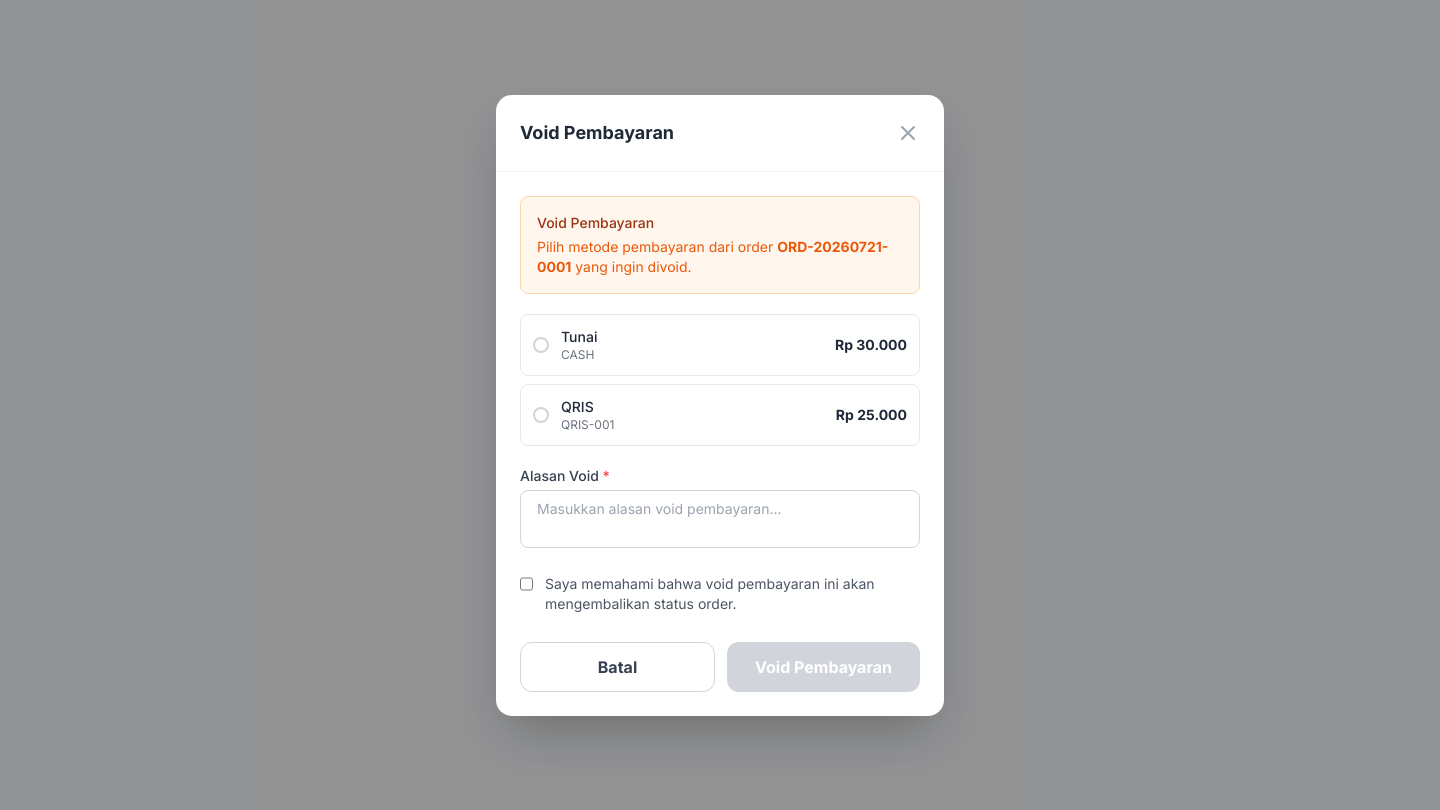
Test: VoidPayment › submit button is disabled until payment selected, reason filled, and confirmed
Expected: the button "Void Pembayaran" is disabled, [727,642,920,692]
// Select a payment
Click the text "Tunai". click: [579, 336]
box: [561,328,597,344]
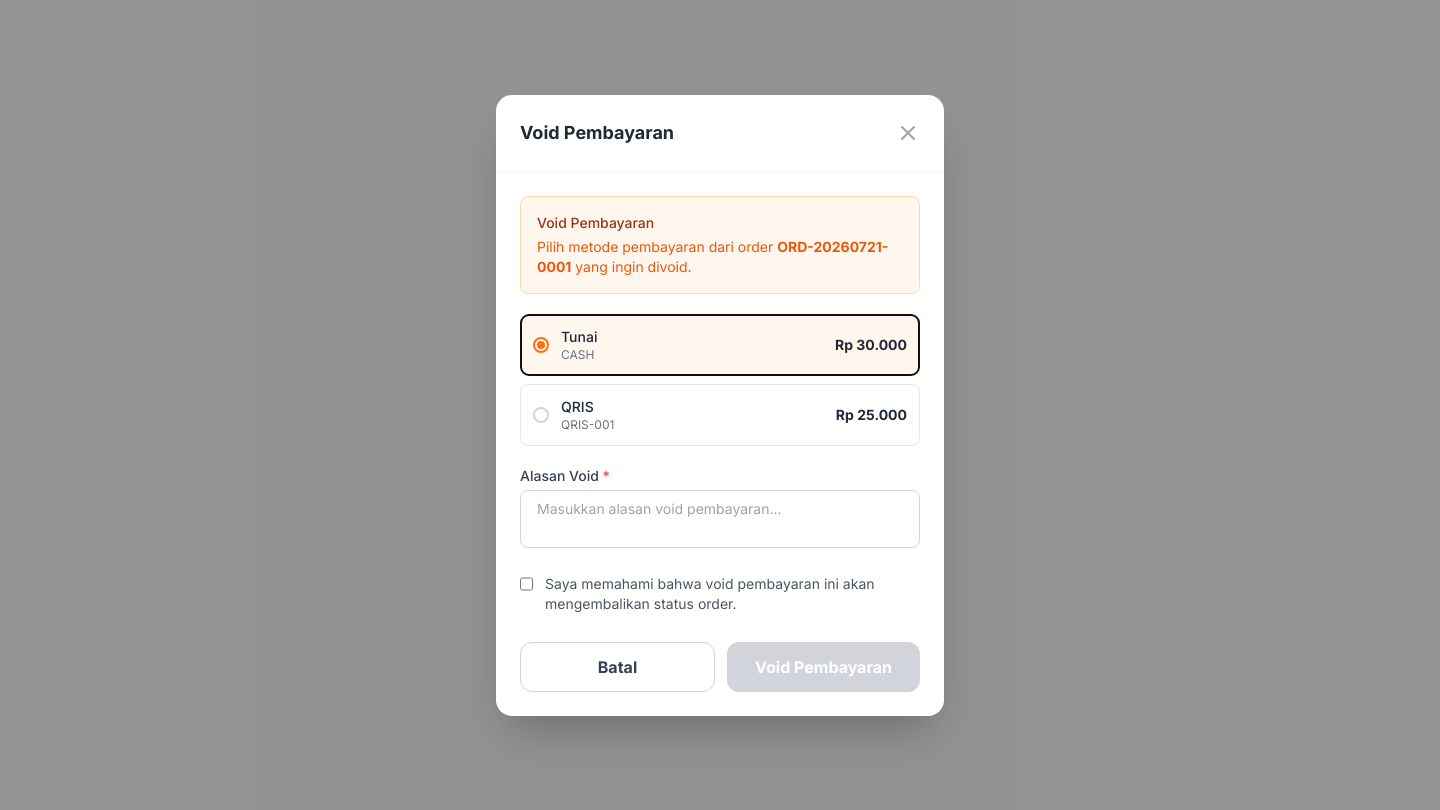
Expected: the button "Void Pembayaran" is disabled, [727,642,920,692]
// Fill reason
Type "Double bayar" into the text box with placeholder "Masukkan alasan void pembayaran...". click: [720, 518]
box: [520,490,920,548]
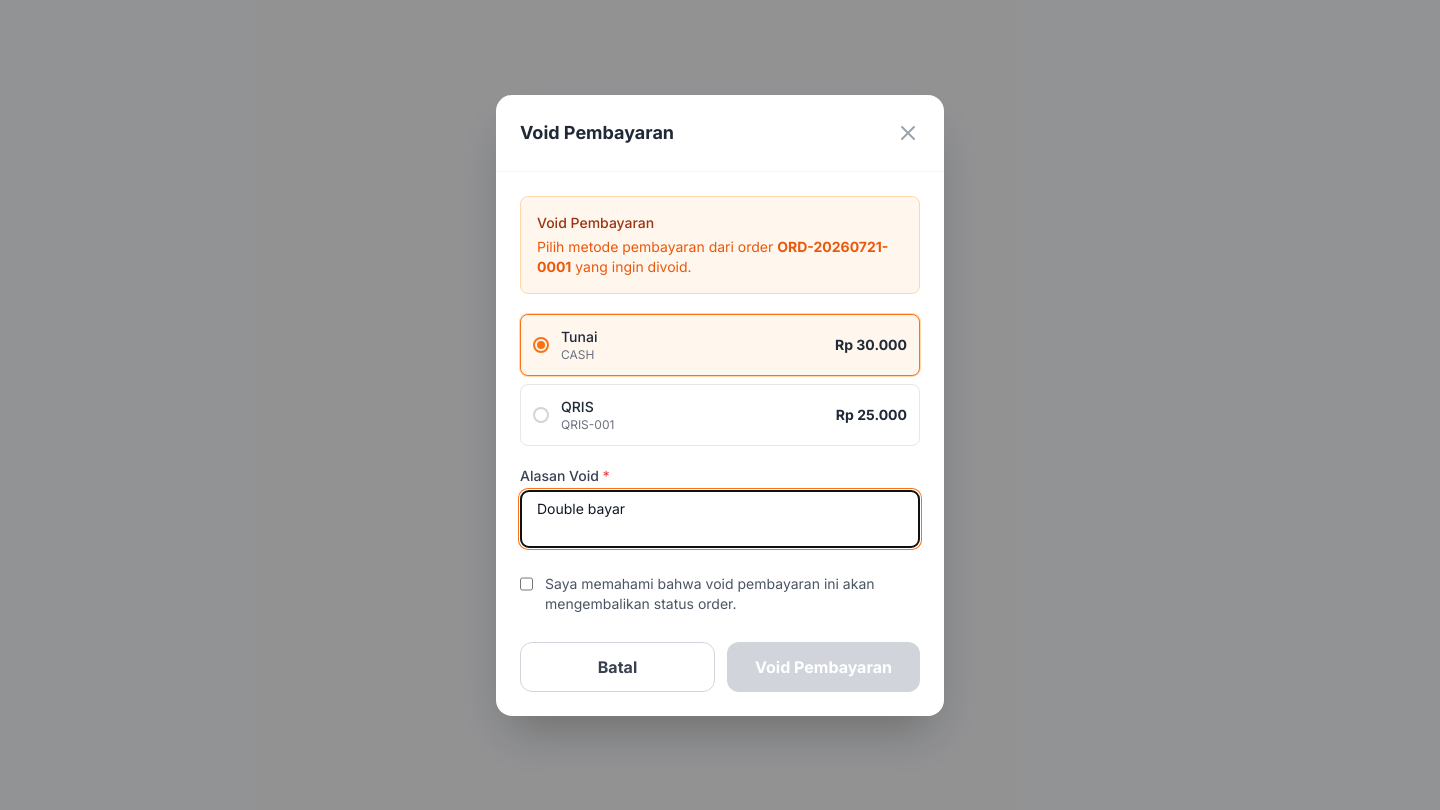
Expected: the button "Void Pembayaran" is disabled, [727,642,920,692]
// Check confirmation
Click the checkbox. click: [526, 584]
box: [520,576,533,592]
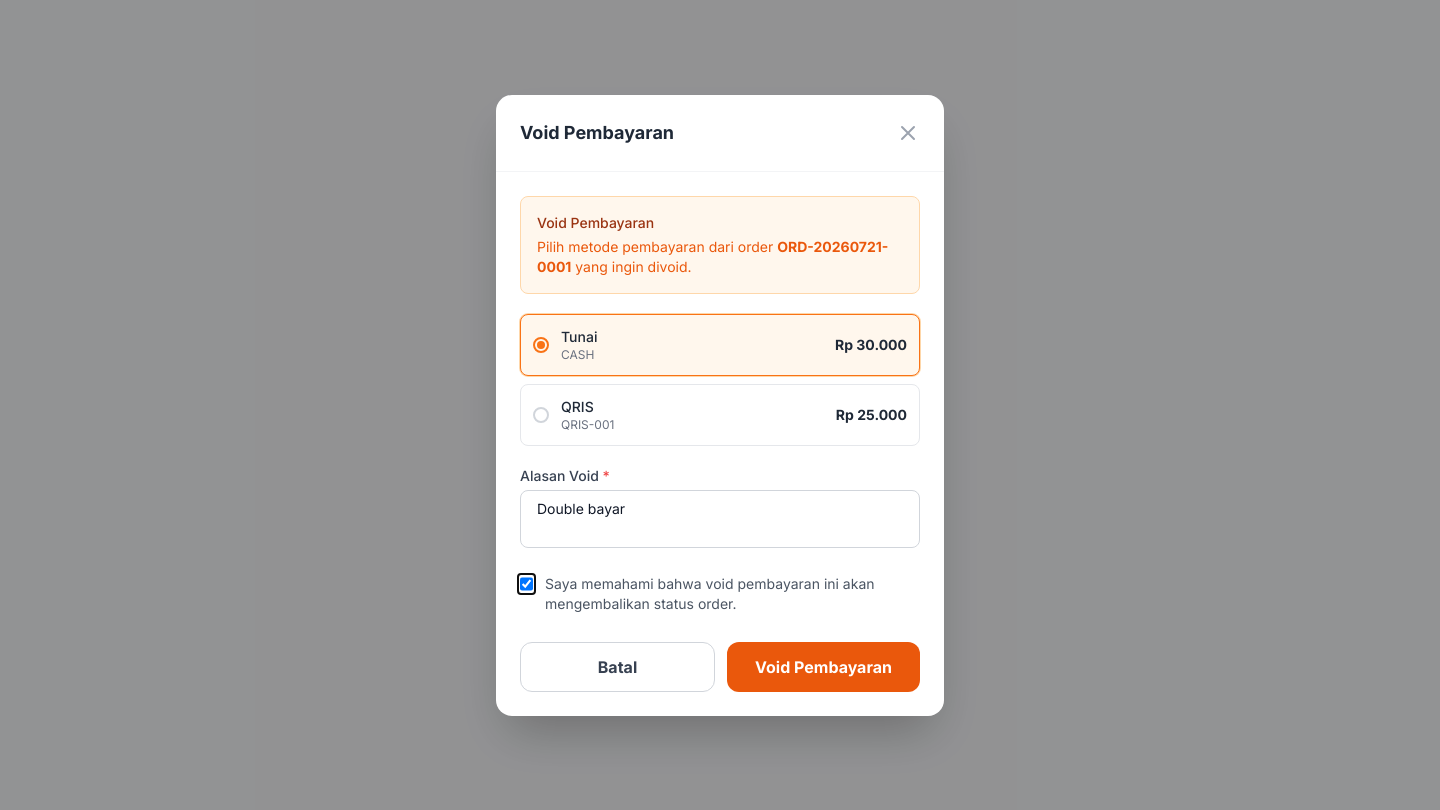
Expected: the button "Void Pembayaran" is enabled, [727,642,920,692]
